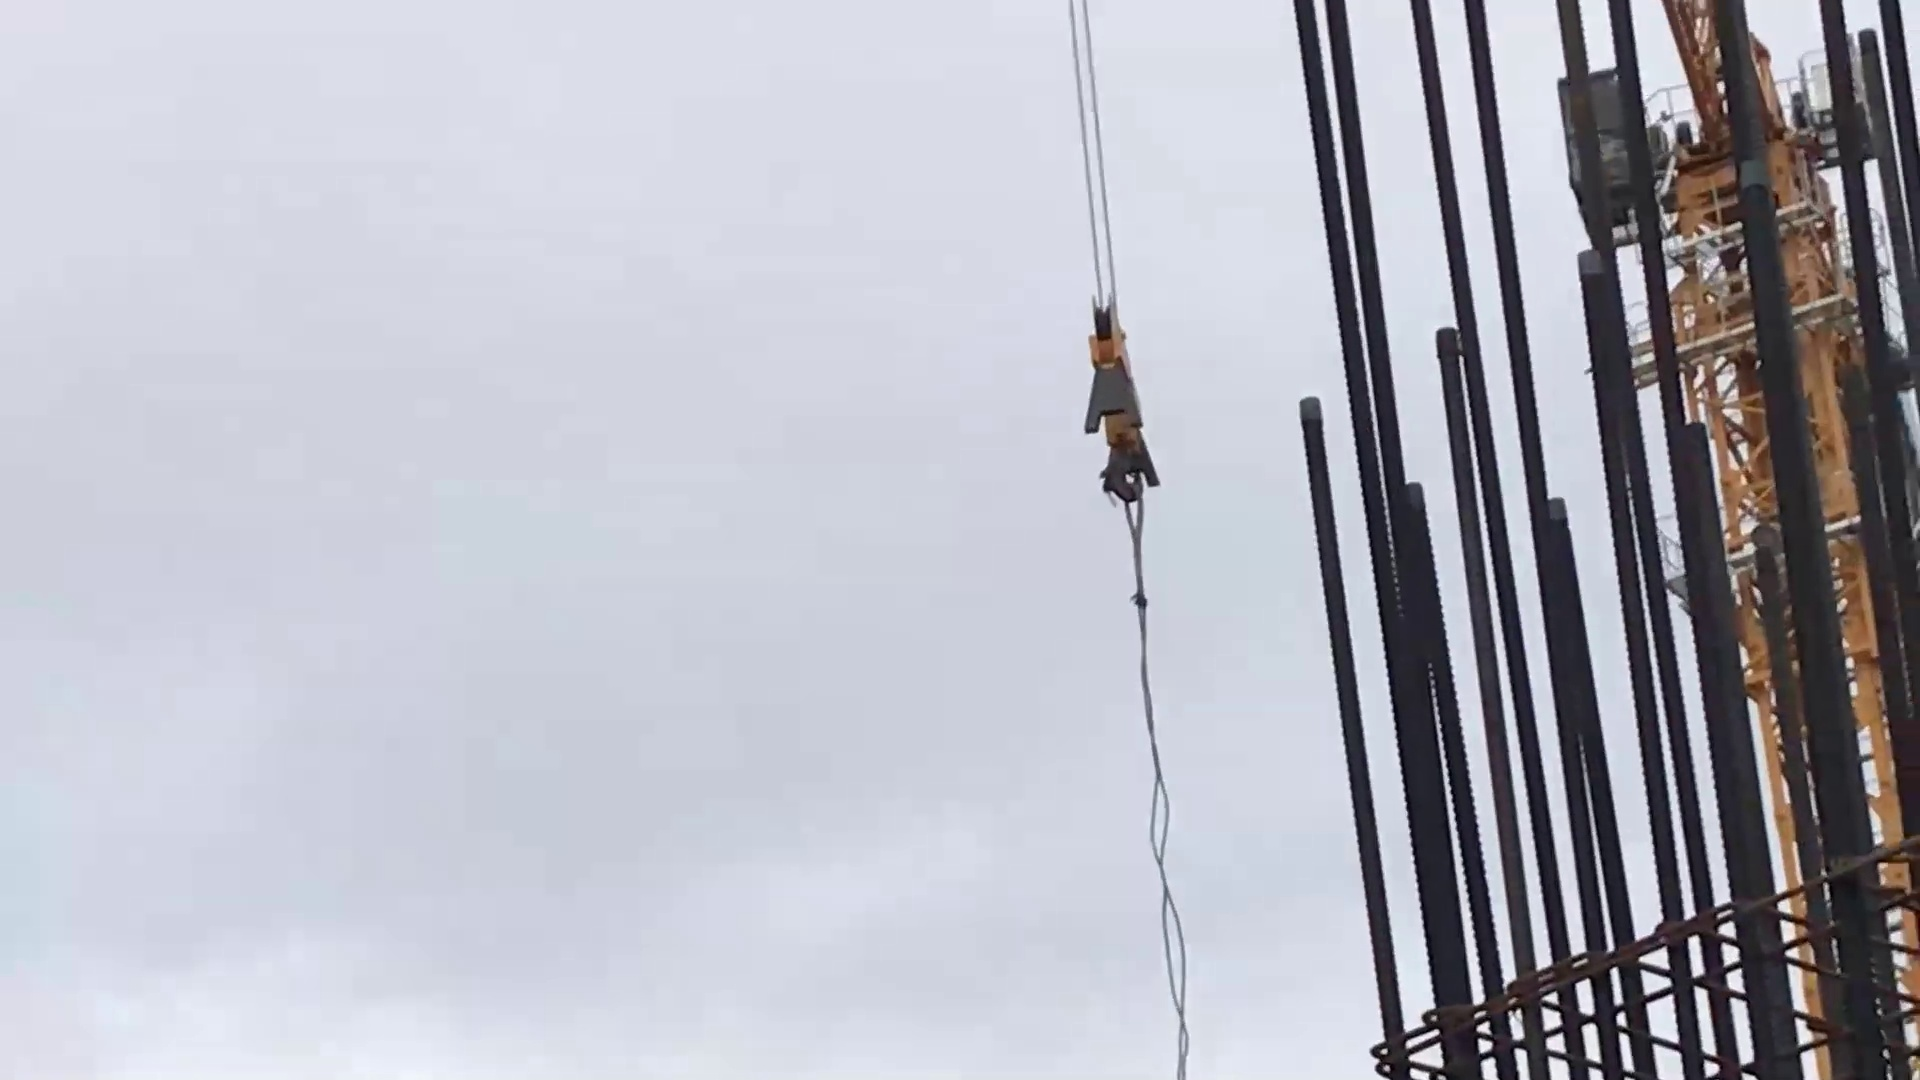hook: (1038, 274, 1221, 564)
